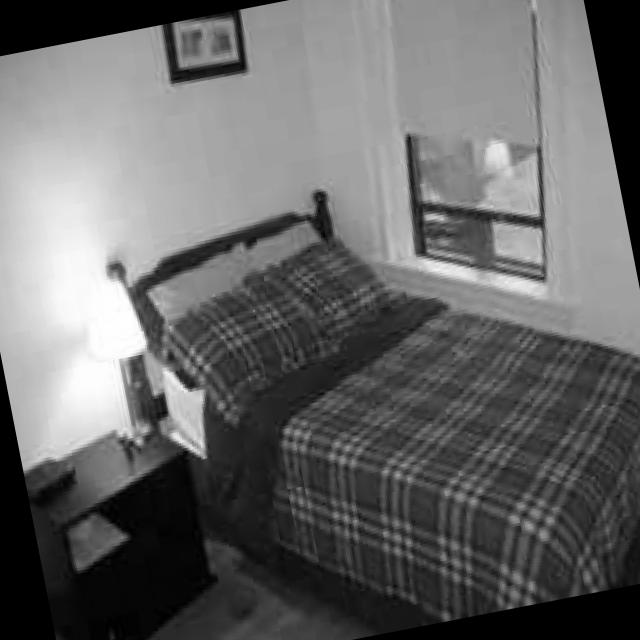2001: (391, 0, 540, 280)
bed -occluded-: (109, 185, 640, 621)
floor -X: (58, 313, 640, 640)
lamp crop: (116, 352, 161, 435)
night table crop: (26, 416, 214, 640)
picture frame: (162, 16, 249, 82)
wall clock: (299, 0, 640, 460)
